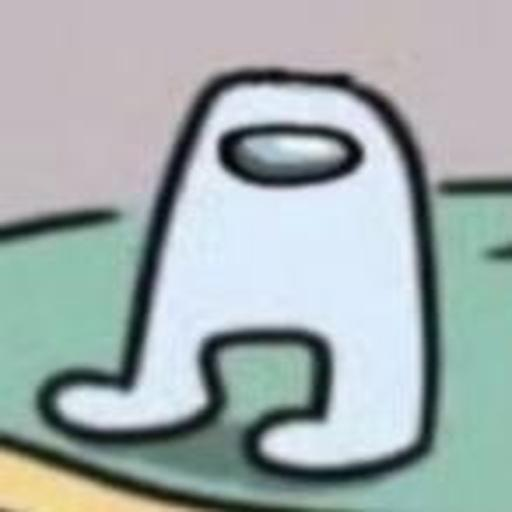Crewmate: (37, 62, 440, 475)
